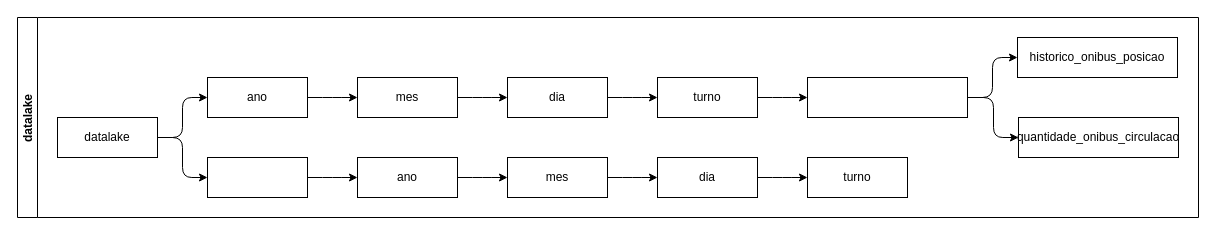
Some shapes in this 1216 by 235 pixel diagram are drawn without their labels. Each missing label, with the centre of its shape:
"bronze" belongs at [257,177].
"id_linha_{numero_linha}" belongs at [887,97].
